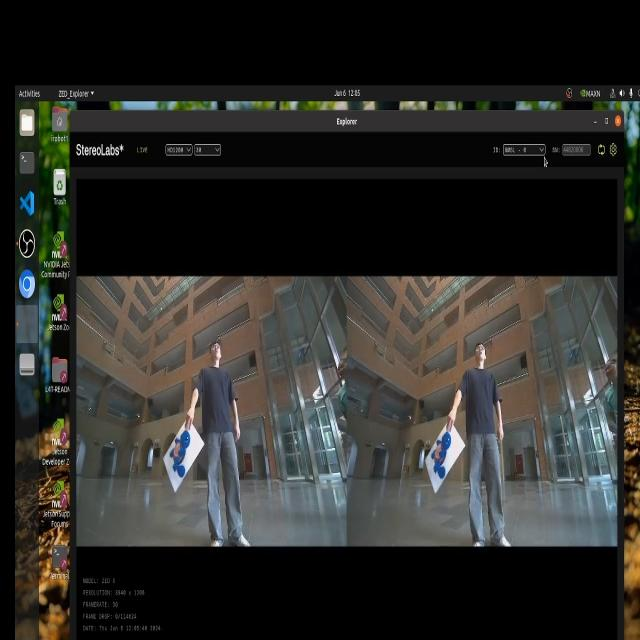blue: (166, 424, 194, 486), (433, 432, 456, 492)
